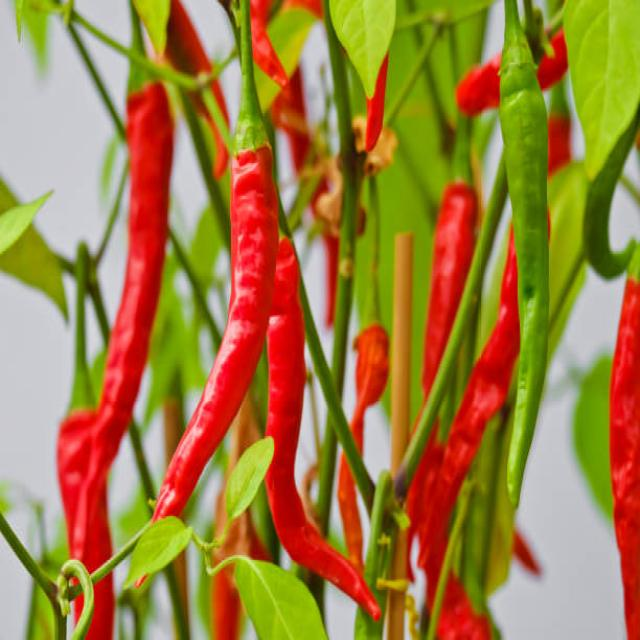Ripe: (154, 146, 277, 519), (266, 237, 379, 618)
Unripe: (500, 25, 546, 505)
